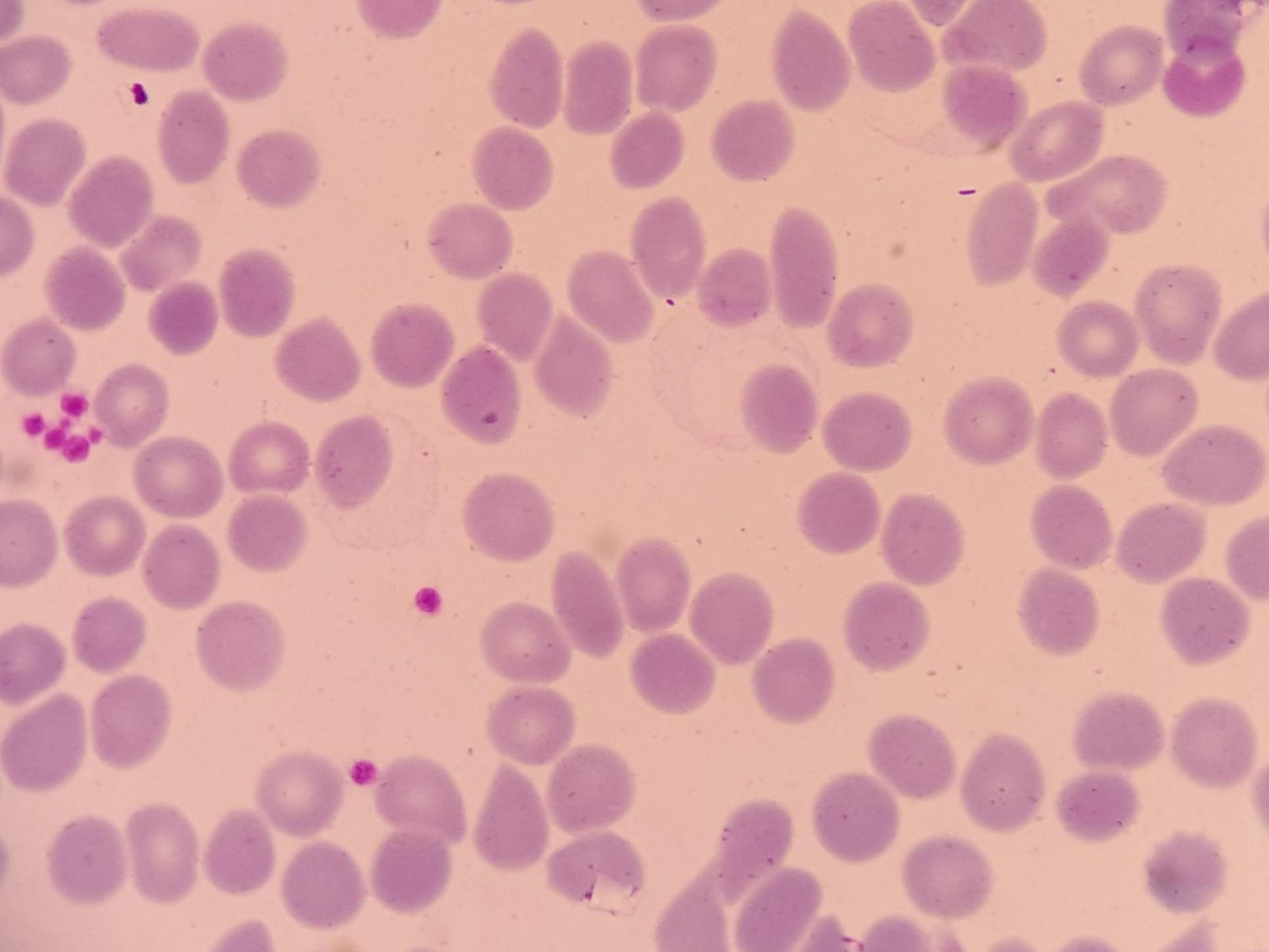Uninfected: (1047, 152, 1163, 235), (1160, 573, 1252, 666), (1, 691, 88, 788), (1160, 424, 1264, 505), (959, 735, 1045, 832), (769, 206, 839, 325), (67, 155, 155, 249), (534, 318, 616, 418), (713, 799, 797, 896), (547, 744, 636, 835), (473, 766, 551, 869), (462, 473, 553, 561), (812, 771, 900, 862), (1136, 265, 1223, 357), (373, 755, 466, 841), (551, 547, 626, 653), (772, 11, 853, 109), (944, 376, 1034, 464), (568, 248, 654, 340), (1170, 696, 1256, 788), (440, 345, 522, 441), (255, 750, 344, 838), (866, 713, 956, 800), (313, 414, 396, 508), (1008, 100, 1102, 182), (630, 196, 707, 296), (489, 28, 566, 128), (156, 81, 230, 185), (848, 3, 934, 92), (688, 572, 772, 663), (879, 493, 963, 584), (45, 815, 128, 907), (732, 866, 824, 949), (125, 804, 202, 903), (90, 672, 171, 766), (547, 831, 643, 910), (1110, 369, 1197, 456), (196, 602, 284, 688), (479, 602, 570, 685), (614, 539, 692, 634), (844, 582, 929, 669), (273, 316, 361, 400), (821, 390, 909, 474), (132, 435, 221, 518), (45, 246, 128, 334), (5, 118, 88, 206), (739, 363, 821, 452), (967, 181, 1038, 283), (1017, 569, 1100, 656), (902, 836, 990, 918), (634, 24, 715, 113), (485, 686, 575, 766), (279, 842, 363, 927), (1031, 482, 1114, 568), (628, 632, 715, 714), (1075, 692, 1163, 773), (471, 125, 554, 210), (371, 302, 454, 387), (797, 471, 882, 554), (1116, 503, 1203, 584), (199, 22, 287, 102), (942, 63, 1025, 147), (219, 249, 298, 337), (827, 283, 911, 365), (370, 830, 452, 914), (477, 270, 555, 358), (203, 808, 279, 898), (712, 99, 794, 182), (142, 524, 224, 606), (64, 495, 146, 577), (1145, 831, 1228, 912), (1031, 217, 1111, 300), (946, 1, 1043, 69), (751, 640, 832, 721), (226, 494, 308, 573), (236, 129, 319, 207), (1036, 391, 1110, 478), (608, 111, 687, 192), (121, 215, 202, 294), (429, 202, 513, 278), (655, 864, 728, 951), (95, 12, 197, 74), (1081, 26, 1162, 104), (562, 40, 632, 130), (695, 247, 772, 328), (229, 422, 312, 497), (72, 596, 149, 676), (92, 364, 168, 445), (3, 316, 78, 398), (1057, 301, 1135, 379), (1056, 770, 1139, 841), (148, 279, 223, 356), (1, 623, 65, 704), (1164, 50, 1245, 114), (0, 35, 72, 106), (1212, 291, 1269, 379), (0, 499, 59, 584), (1166, 1, 1252, 55)
